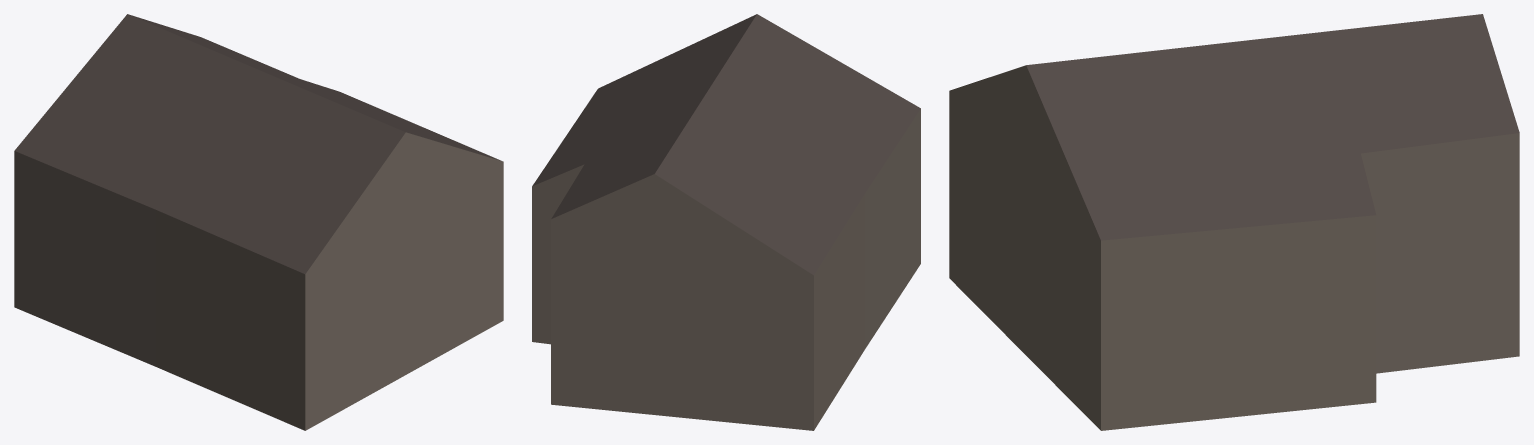
The picture shows the model from 3 angles, left to right: view 1: azimuth 30°, elevation 25°; view 2: azimuth 150°, elevation 25°; view 3: azimuth 270°, elevation 25°; orthographic projection. The views are drawn at different scales.
Visible parts, largest first — view 1: HP-w1198667815; view 2: HP-w1198667815; view 3: HP-w1198667815.
Boxes of the visible parts, box(x1,y1,x2,y2) form: HP-w1198667815: box(14, 14, 503, 430); HP-w1198667815: box(532, 14, 920, 430); HP-w1198667815: box(949, 14, 1519, 430).
Bounding box in the file's own units: 21.25 × 13.95 × 24.84.
